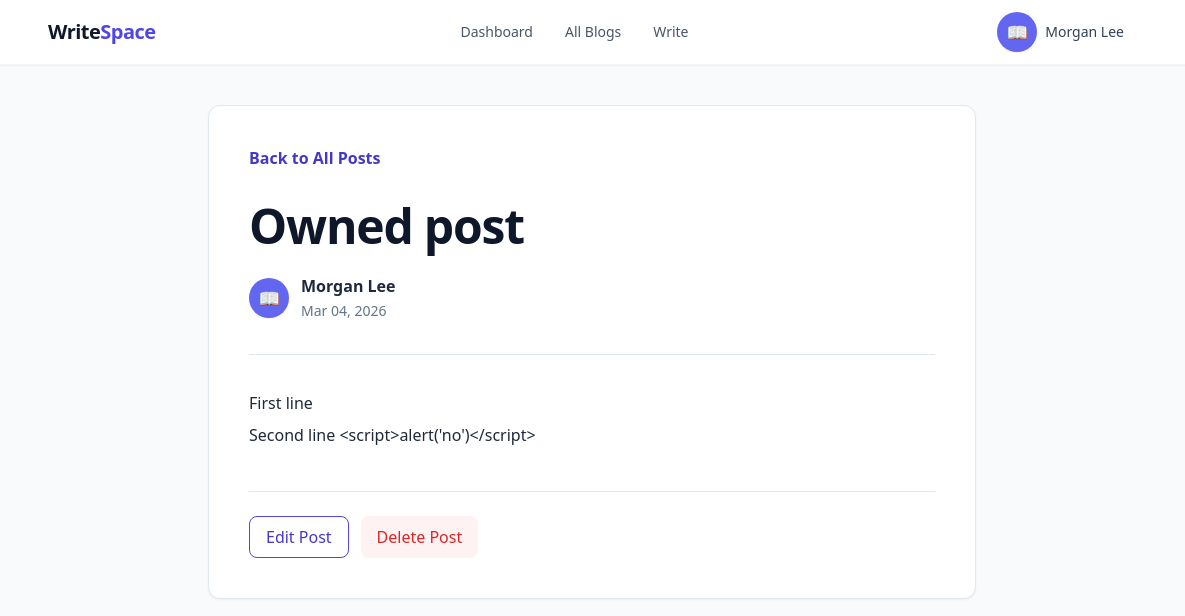
Test: ReadBlog › persists confirmed deletion before navigating to the exact empty state
Click the button "Delete Post" at (419, 537), box [361,516,478,558]
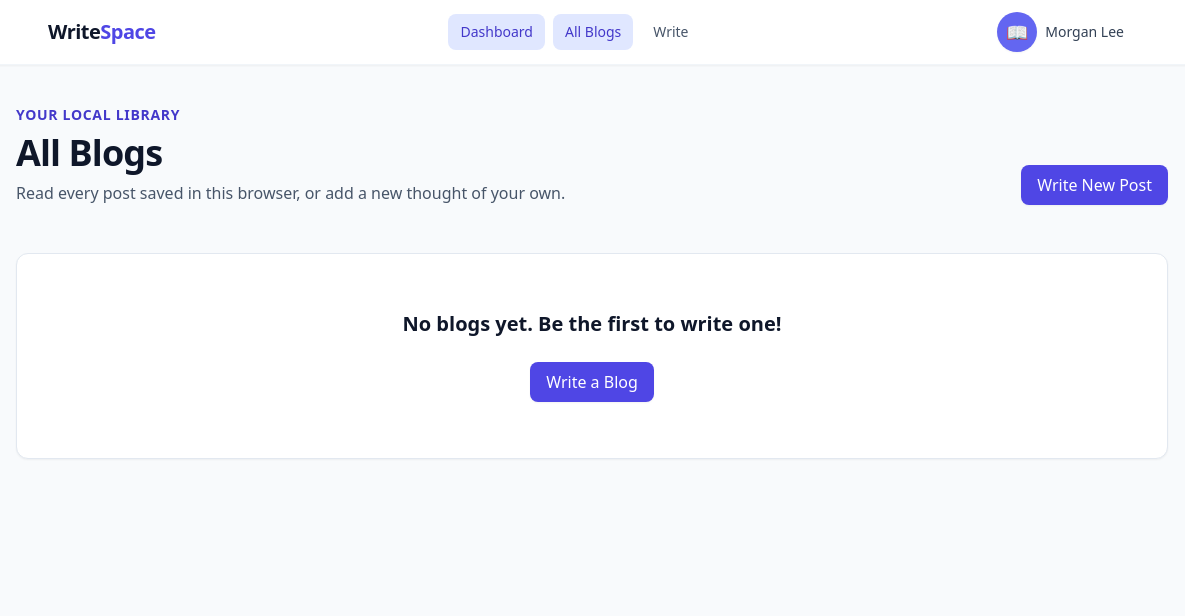
Expected: the heading "No blogs yet. Be the first to write one!" is shown, [402,310,781,337]
